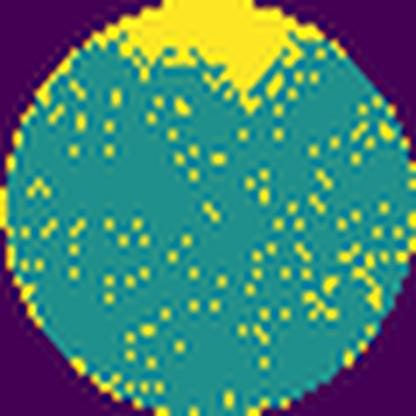Edge-Loc: (97, 0, 325, 110)
